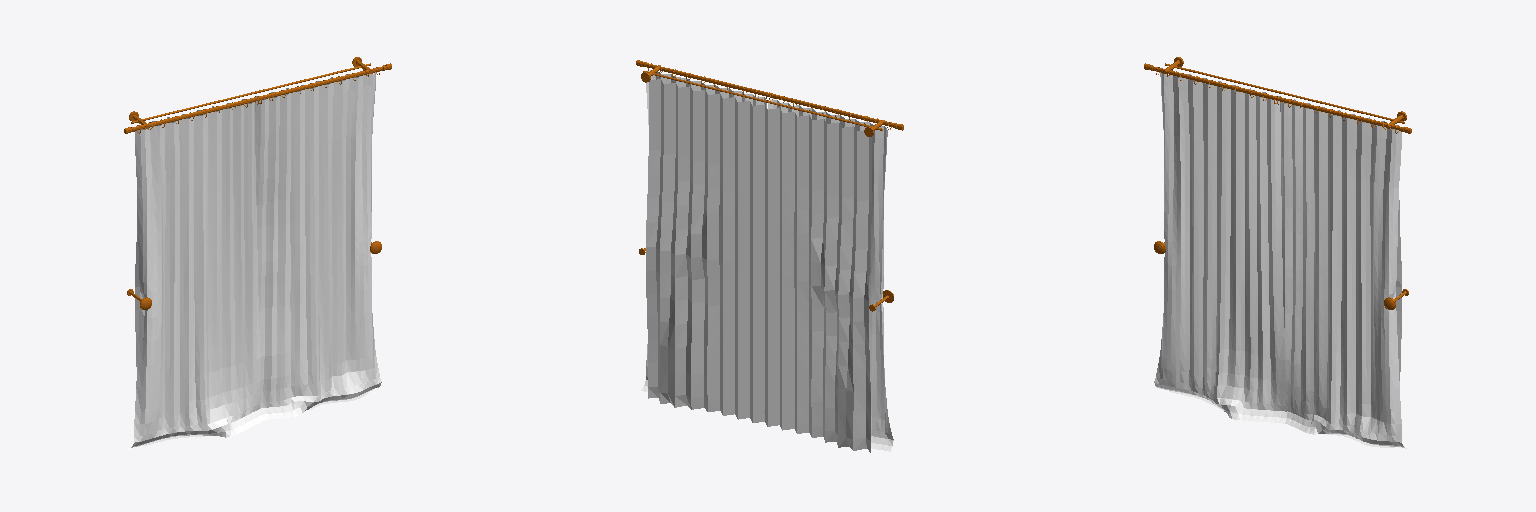
File: curtain_0000.obj
3 views of the same model, side by side, from view 1: azimuth 30°, elevation 25°; view 2: azimuth 150°, elevation 25°; view 3: azimuth 330°, elevation 25° (orthographic).
Size of the model in its own units: 2.25 by 2.65 by 0.3201.